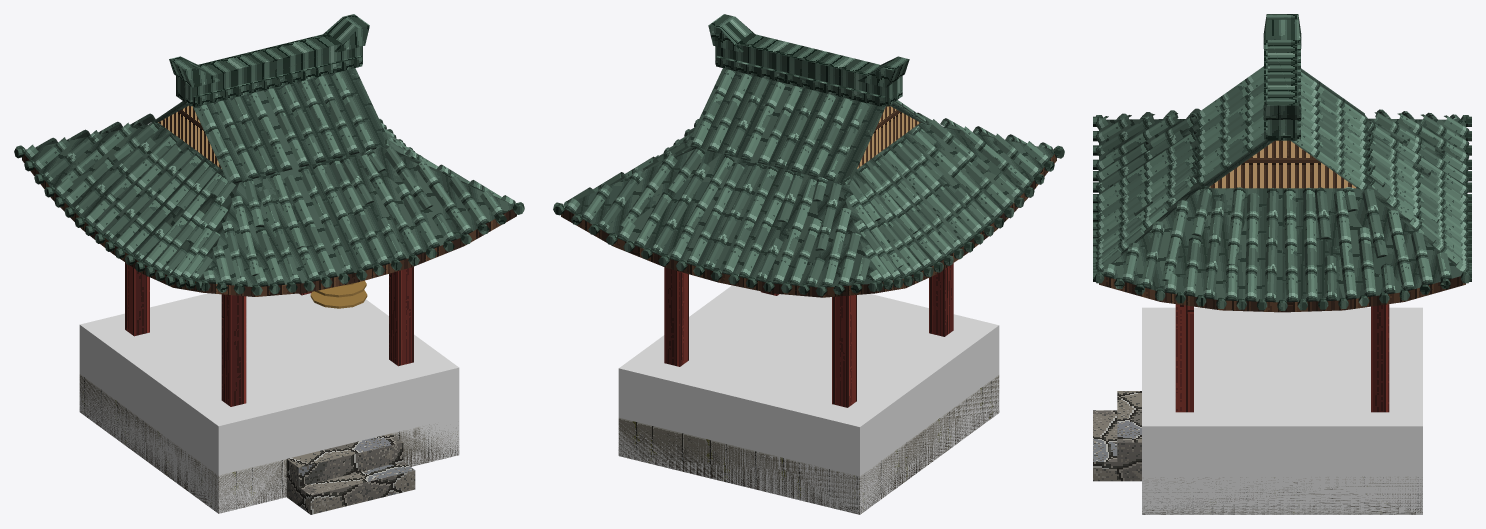
Rendered from JP_Temple_BellTower_A.glb.
The picture shows the model from 3 angles, left to right: view 1: azimuth 30°, elevation 25°; view 2: azimuth 150°, elevation 25°; view 3: azimuth 270°, elevation 25°; orthographic projection.
Parts seen in each view (by area): view 1: JP_Temple_BellTower_A, COL_JP_Temple_BellTower_A; view 2: JP_Temple_BellTower_A, COL_JP_Temple_BellTower_A; view 3: JP_Temple_BellTower_A, COL_JP_Temple_BellTower_A.
Part boxes in pixels (x1,y1,x2,y2): JP_Temple_BellTower_A: [14, 14, 524, 514]; COL_JP_Temple_BellTower_A: [79, 293, 459, 513]; JP_Temple_BellTower_A: [553, 14, 1064, 514]; COL_JP_Temple_BellTower_A: [618, 285, 999, 514]; JP_Temple_BellTower_A: [1093, 14, 1471, 514]; COL_JP_Temple_BellTower_A: [1142, 307, 1422, 514].
Size of the model in its own units: 6.2 by 7.15 by 6.2.
11 materials, 11 textured.
